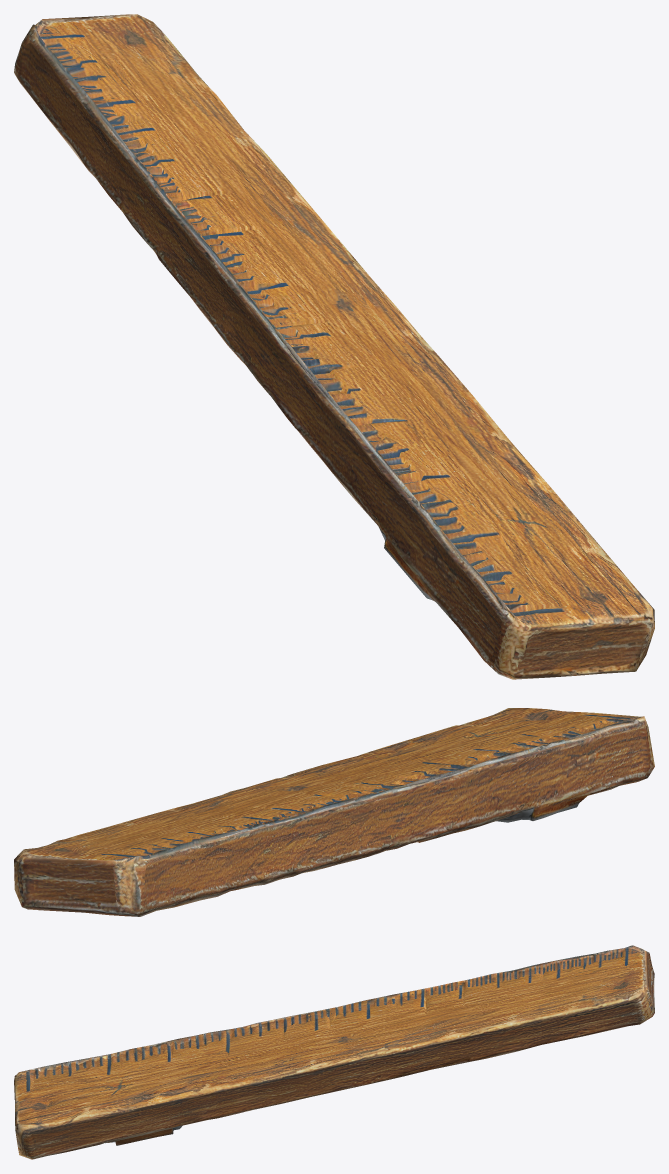
Rendered from DeskRuler.fbx.
3 renders of one model, top to bottom at view 1: azimuth 30°, elevation 25°; view 2: azimuth 150°, elevation 25°; view 3: azimuth 270°, elevation 25°, orthographic. The views are drawn at different scales.
Visible parts, largest first — view 1: tripo_node_162b0eb0-a4a8-4d07-afbe-ebddb4625e89; view 2: tripo_node_162b0eb0-a4a8-4d07-afbe-ebddb4625e89; view 3: tripo_node_162b0eb0-a4a8-4d07-afbe-ebddb4625e89.
Part boxes in pixels (x1,y1,x2,y2): tripo_node_162b0eb0-a4a8-4d07-afbe-ebddb4625e89: (14, 14, 654, 679); tripo_node_162b0eb0-a4a8-4d07-afbe-ebddb4625e89: (14, 708, 654, 916); tripo_node_162b0eb0-a4a8-4d07-afbe-ebddb4625e89: (14, 945, 654, 1159).
Size of the model in its own units: 17.8 by 31.43 by 100.
Materials: 1 (1 with a texture image).
